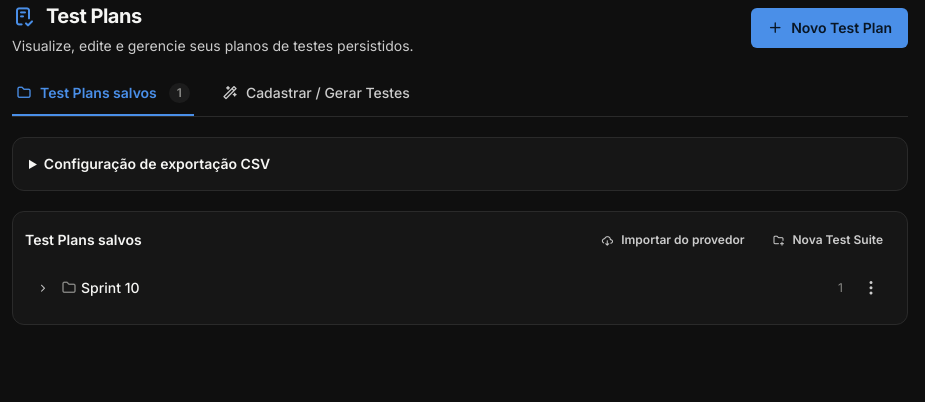
Test case: Test Plans imported from a test management platform › loads every Test Plan for the tree when they span several pages
Click the button named "Sprint 10": x=43, y=288 [29,274,57,302]
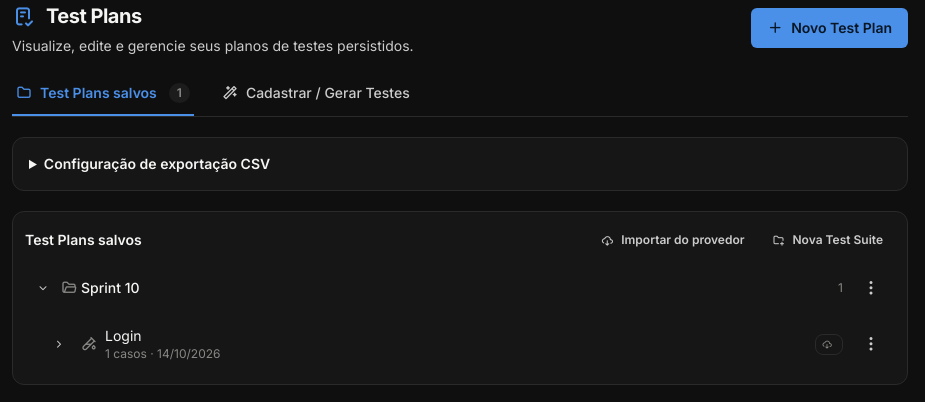
Expected: the element with test id "saved-plan-card-plan-1" is shown, [25,316,895,372]
